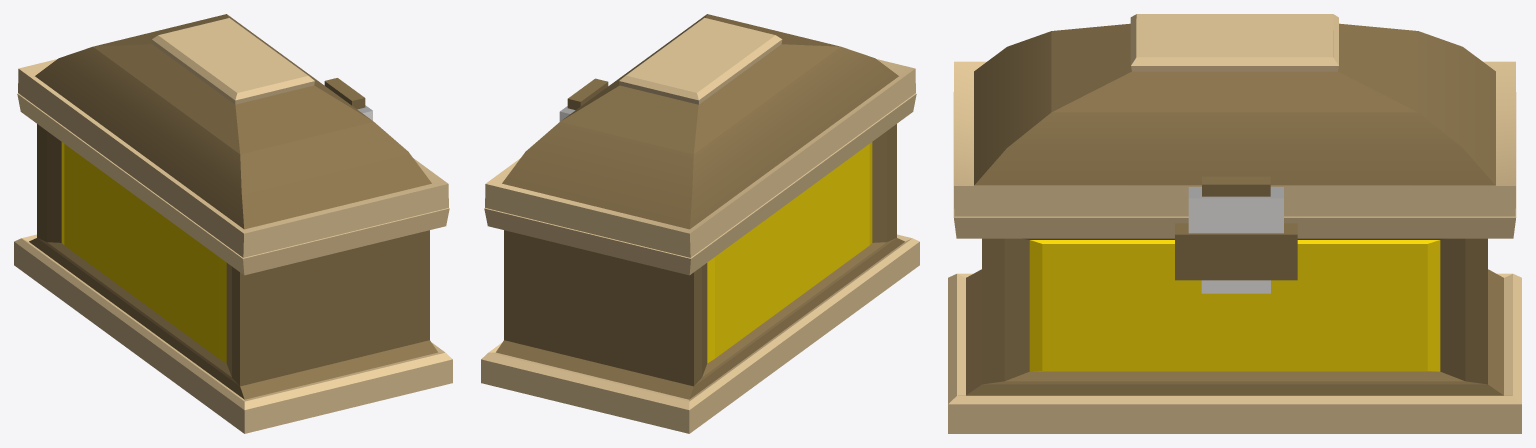
Rendered from chest_01.fbx.
3 renders of one model, left to right at view 1: azimuth 30°, elevation 25°; view 2: azimuth 150°, elevation 25°; view 3: azimuth 270°, elevation 25°, orthographic. The views are drawn at different scales.
Visible parts, largest first — view 1: chest_body, chest_lid, lock; view 2: chest_body, chest_lid, lock; view 3: chest_body, chest_lid, lock (×2).
Boxes of the visible parts, bbox=[...] form: chest_body: bbox=[14, 93, 452, 433]; chest_lid: bbox=[18, 14, 448, 257]; lock: bbox=[324, 78, 372, 120]; chest_body: bbox=[481, 93, 919, 433]; chest_lid: bbox=[485, 14, 915, 257]; lock: bbox=[559, 78, 608, 121]; chest_body: bbox=[948, 92, 1521, 433]; chest_lid: bbox=[954, 14, 1515, 216]; lock (×2): bbox=[1175, 176, 1297, 293].
Bounding box in the file's own units: 2.09 × 2.36 × 3.66.
